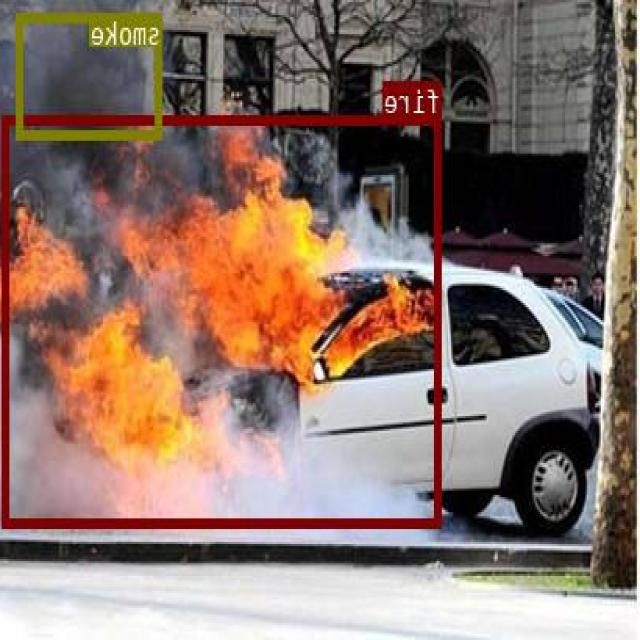fire: (3, 114, 442, 526)
smoke: (18, 11, 163, 137)
